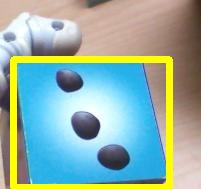Blue3: (13, 59, 169, 187)
